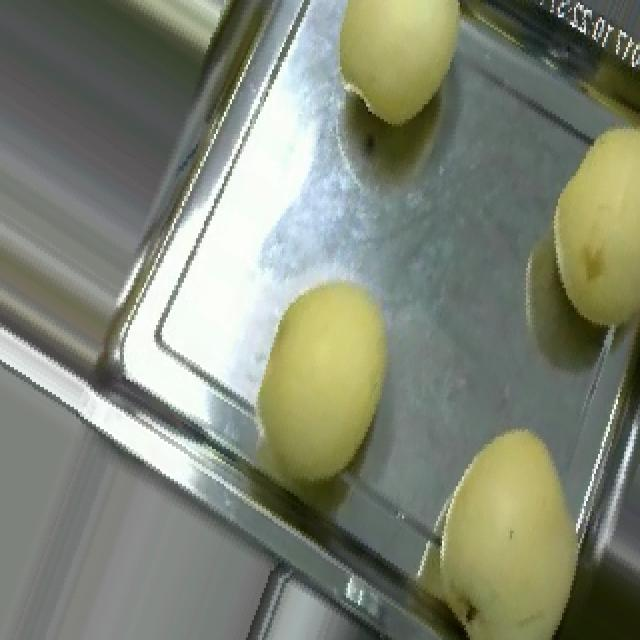Fruit: (392, 404, 608, 640), (220, 263, 412, 513), (520, 100, 640, 348), (318, 0, 480, 139)
